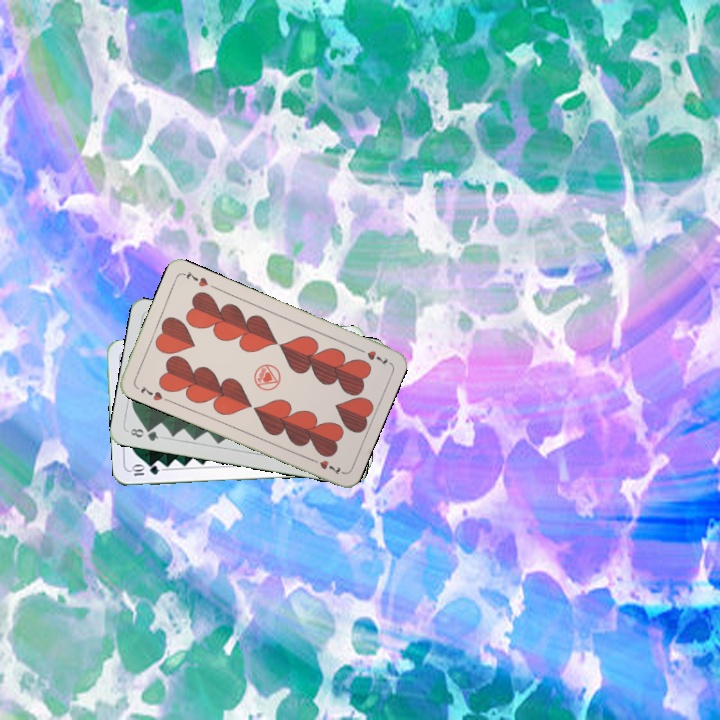G10: (127, 462, 161, 478)
G8: (126, 424, 161, 444)
H7: (353, 344, 391, 369), (136, 382, 165, 403)
